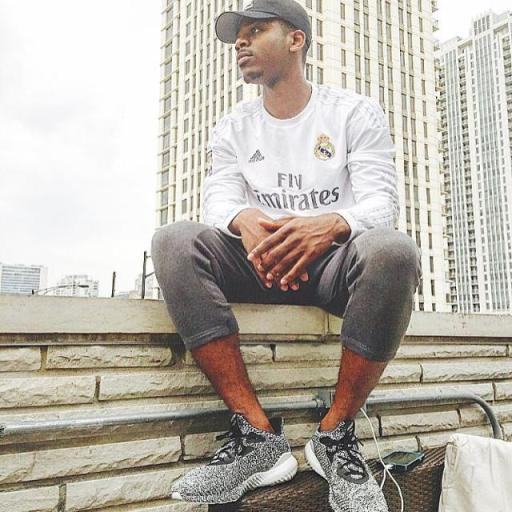Adidas: (246, 149, 265, 164)
Emirates: (249, 172, 340, 213)
